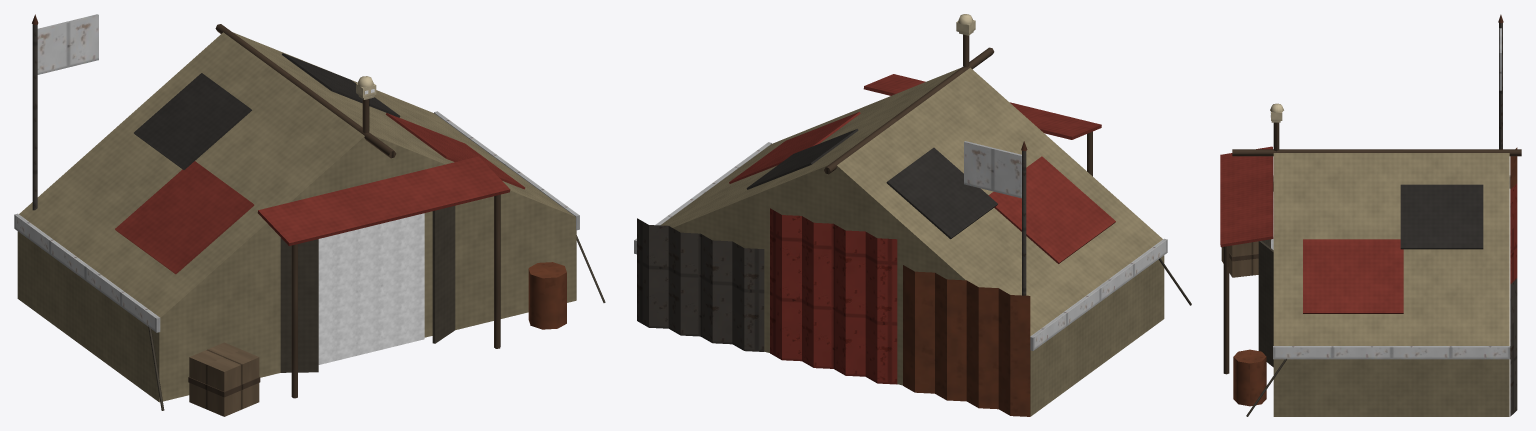
3 renders of one model, left to right at view 1: azimuth 30°, elevation 25°; view 2: azimuth 150°, elevation 25°; view 3: azimuth 270°, elevation 25°, orthographic. The views are drawn at different scales.
Visible parts, largest first — view 1: raider_building_tent; view 2: raider_building_tent; view 3: raider_building_tent.
Boxes of the visible parts, box(x1,y1,x2,y2) form: raider_building_tent: box(14, 14, 605, 416); raider_building_tent: box(634, 14, 1191, 416); raider_building_tent: box(1220, 14, 1521, 416).
Bounding box in the file's own units: 7.24 × 4.45 × 5.1.
Materials: 13 (13 with a texture image).
